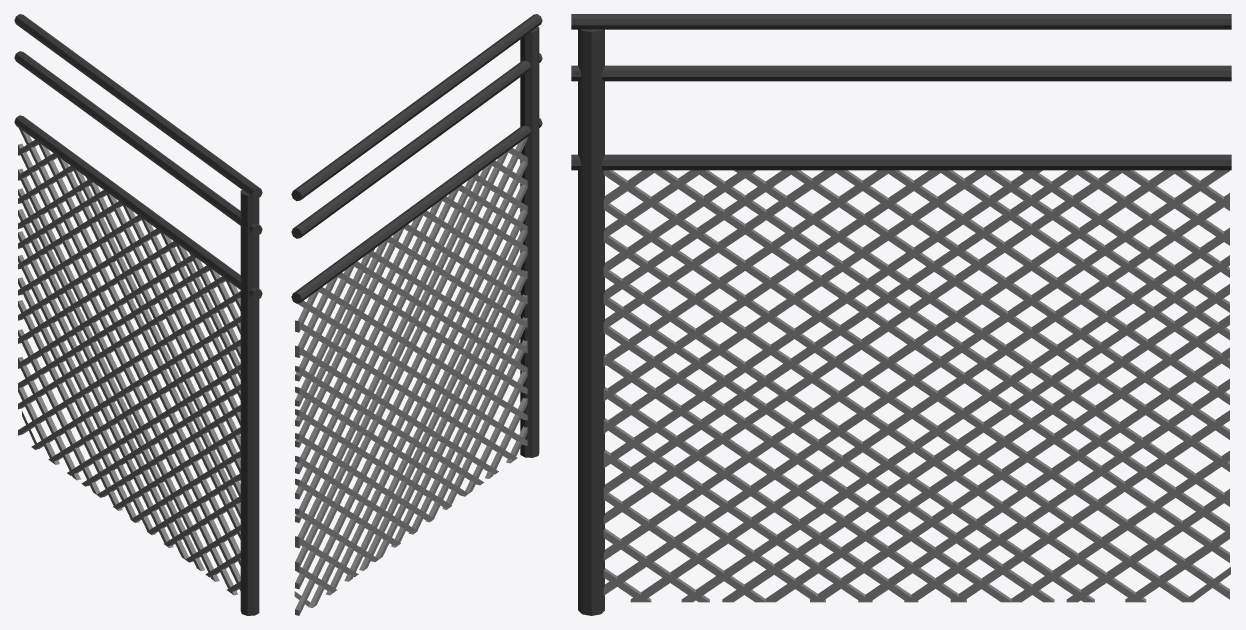
File: fence_01.fbx
3 renders of one model, left to right at view 1: azimuth 30°, elevation 25°; view 2: azimuth 150°, elevation 25°; view 3: azimuth 270°, elevation 25°, orthographic. The views are drawn at different scales.
Parts seen in each view (by area): view 1: fence_01; view 2: fence_01; view 3: fence_01.
Part boxes in pixels (x1,y1,x2,y2): fence_01: [14, 14, 262, 615]; fence_01: [291, 14, 542, 615]; fence_01: [571, 14, 1231, 615].
Bounding box in the file's own units: 10.98 × 268 × 269.
1 material, 1 textured.
